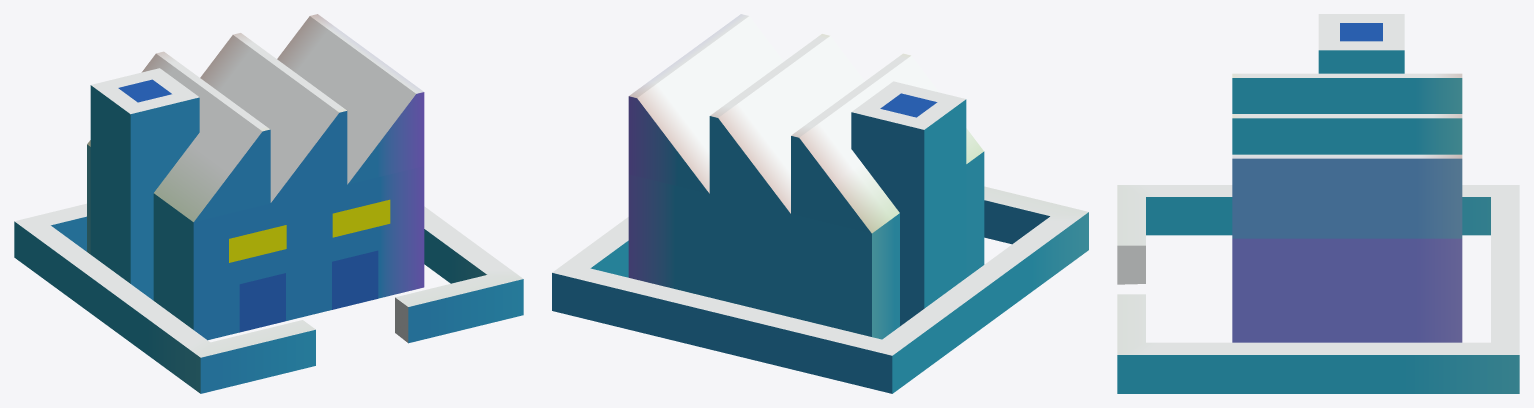
The model's file is Factory.AzureAsteroid.Snow.glb.
3 views of the same model, side by side, from view 1: azimuth 30°, elevation 25°; view 2: azimuth 150°, elevation 25°; view 3: azimuth 270°, elevation 25° (orthographic). The views are drawn at different scales.
Parts seen in each view (by area): view 1: Factory.AzureAsteroid.Snow; view 2: Factory.AzureAsteroid.Snow; view 3: Factory.AzureAsteroid.Snow.
Part boxes in pixels (x1,y1,x2,y2): Factory.AzureAsteroid.Snow: (14,14,523,393); Factory.AzureAsteroid.Snow: (552,14,1088,393); Factory.AzureAsteroid.Snow: (1117,14,1519,393).
Bounding box in the file's own units: 2.8 × 1.71 × 2.8.
Materials: 2 (1 with a texture image).
